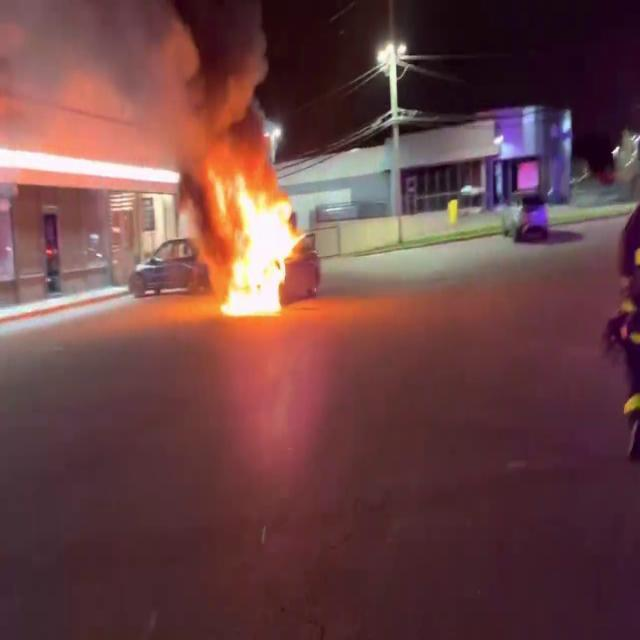Fire: (213, 169, 307, 319)
Smoke: (0, 0, 288, 164)
